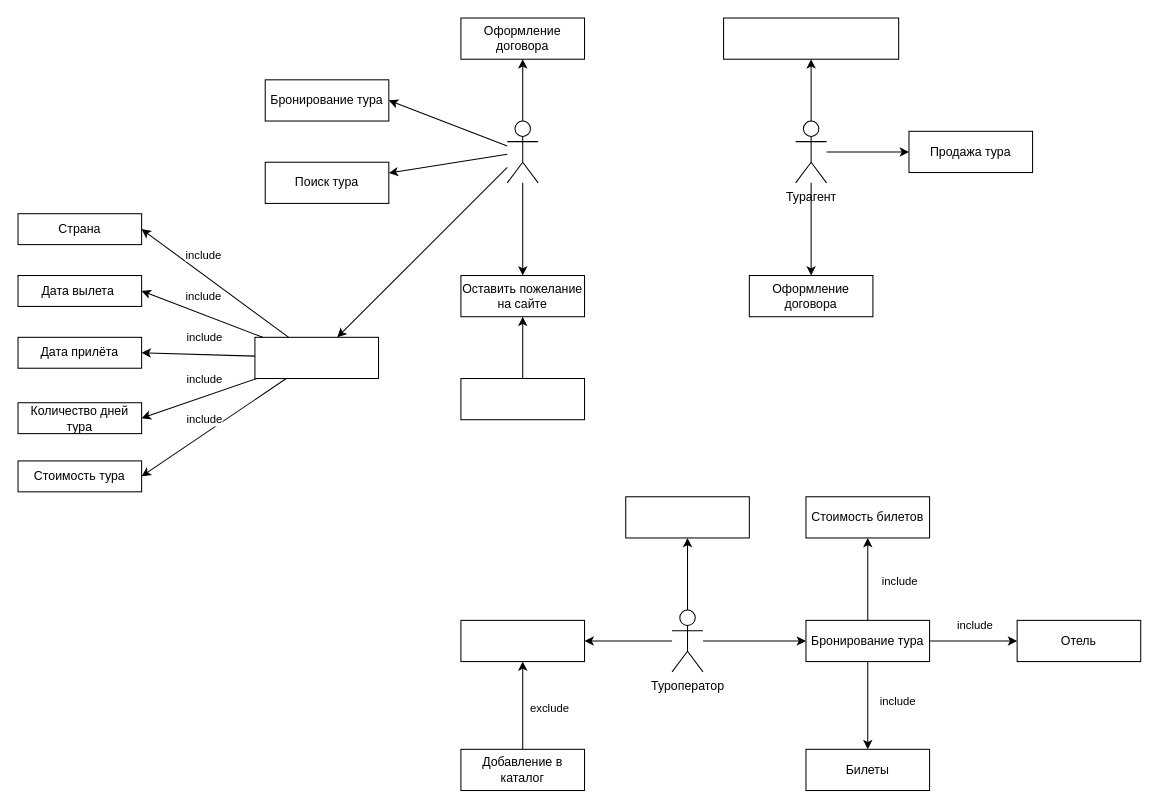
This 1159x809 diagram has some shape labels left out. Each missing label, with the box of its shape:
Добавление тура: (460, 619, 585, 662)
Интересующий тур: (460, 377, 585, 420)
Клиент: (506, 120, 538, 183)
Прогнозирование продаж: (625, 496, 749, 538)
Прогнозирование продаж тура: (723, 17, 899, 59)
Просмотр информации о туре: (254, 336, 379, 379)
